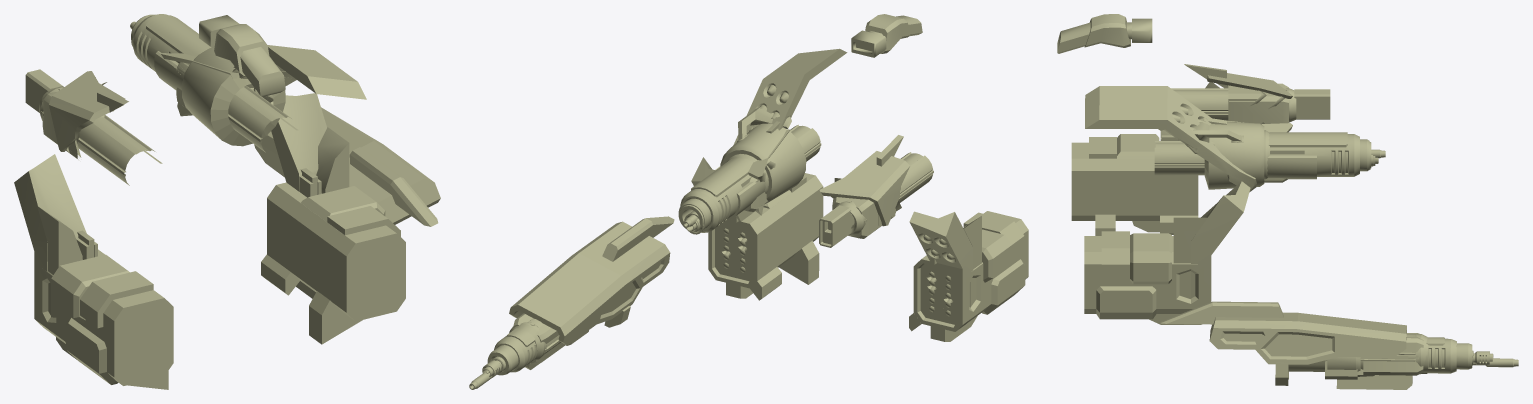
The model's file is AssassinWeapons.glb.
3 views of the same model, side by side, from view 1: azimuth 30°, elevation 25°; view 2: azimuth 150°, elevation 25°; view 3: azimuth 270°, elevation 25° (orthographic). The views are drawn at different scales.
Parts seen in each view (by area): view 1: Torso_Left_MH1_Missile10, Torso_Right_MH1_Missile10, Torso_Right_MH1_Missile2, Torso_Right_BH1_AC20, Torso_Left_MH1_Missile2, Torso_Left_EH1_PPC, Forearm_Right_BH1_AC5, Torso_Right_BH1_AC10, Head_EH1_Flamer, Torso_Left_MH1_Missile4, Torso_Right_MH2_Missile10, Torso_Left_EH1_Flamer (+3 smaller); view 2: Torso_Left_MH1_Missile10, Torso_Right_MH1_Missile10, Forearm_Right_BH1_AC5, Torso_Right_BH1_AC20, Torso_Right_MH1_Missile2, Forearm_Right_BH1_MG, Torso_Left_EH1_PPC, Torso_Right_BH1_AC10, Torso_Right_MH2_Missile10, Forearm_Right_BH1_AC10, Torso_Left_EH1_Flamer, Torso_Left_MH1_Missile2 (+9 smaller); view 3: Torso_Right_MH1_Missile10, Forearm_Right_BH1_AC10, Torso_Left_MH1_Missile10, Torso_Left_MH1_Missile2, Torso_Right_BH1_AC20, Torso_Right_MH2_Missile10, Forearm_Right_BH1_AC5, Torso_Right_MH1_Missile2, Torso_Right_BH1_AC10, Torso_Left_EH1_PPC, Torso_Left_MH1_Missile4, Torso_Left_EH1_Flamer (+10 smaller).
Boxes of the visible parts, box(x1,y1,x2,y2) form: Torso_Left_MH1_Missile10: box(14, 154, 173, 385); Torso_Right_MH1_Missile10: box(261, 93, 400, 344); Torso_Right_MH1_Missile2: box(262, 168, 405, 343); Torso_Right_BH1_AC20: box(131, 14, 295, 146); Torso_Left_MH1_Missile2: box(34, 230, 173, 389); Torso_Left_EH1_PPC: box(39, 71, 162, 185); Forearm_Right_BH1_AC5: box(267, 110, 440, 226); Torso_Right_BH1_AC10: box(181, 47, 285, 145); Head_EH1_Flamer: box(199, 15, 285, 95); Torso_Left_MH1_Missile4: box(35, 234, 173, 388); Torso_Right_MH2_Missile10: box(181, 45, 366, 116); Torso_Left_EH1_Flamer: box(25, 69, 123, 157); Torso_Left_MH1_Missile10: box(909, 211, 1028, 341); Torso_Right_MH1_Missile10: box(691, 157, 822, 300); Forearm_Right_BH1_AC5: box(491, 216, 673, 372); Torso_Right_BH1_AC20: box(678, 112, 806, 232); Torso_Right_MH1_Missile2: box(712, 178, 823, 300); Forearm_Right_BH1_MG: box(469, 219, 674, 389); Torso_Left_EH1_PPC: box(819, 135, 933, 235); Torso_Right_BH1_AC10: box(679, 107, 805, 229); Torso_Right_MH2_Missile10: box(733, 48, 847, 215); Forearm_Right_BH1_AC10: box(487, 243, 623, 375); Torso_Left_EH1_Flamer: box(819, 142, 905, 247); Torso_Left_MH1_Missile2: box(917, 231, 1028, 339); Torso_Right_MH1_Missile10: box(1084, 181, 1250, 312); Forearm_Right_BH1_AC10: box(1167, 303, 1472, 389); Torso_Left_MH1_Missile10: box(1071, 82, 1219, 235); Torso_Left_MH1_Missile2: box(1071, 135, 1198, 235); Torso_Right_BH1_AC20: box(1191, 122, 1369, 181); Torso_Right_MH2_Missile10: box(1085, 86, 1256, 192); Forearm_Right_BH1_AC5: box(1160, 301, 1473, 389); Torso_Right_MH1_Missile2: box(1084, 262, 1211, 324); Torso_Right_BH1_AC10: box(1185, 118, 1371, 189); Torso_Left_EH1_PPC: box(1171, 64, 1296, 122); Torso_Left_MH1_Missile4: box(1071, 137, 1197, 235); Torso_Left_EH1_Flamer: box(1187, 66, 1330, 120).
Bounding box in the file's own units: 0.9154 × 0.6943 × 1.05.
